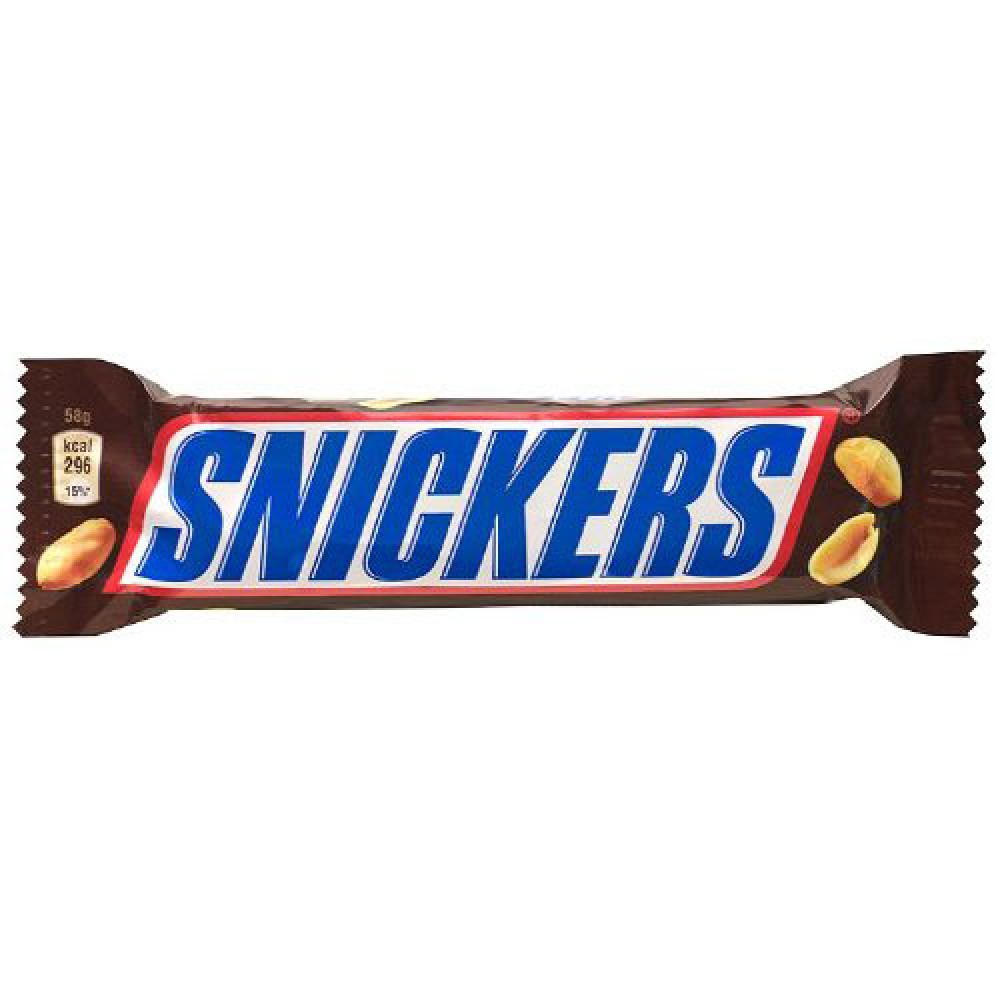snickers: (134, 421, 806, 581), (136, 421, 806, 581)
